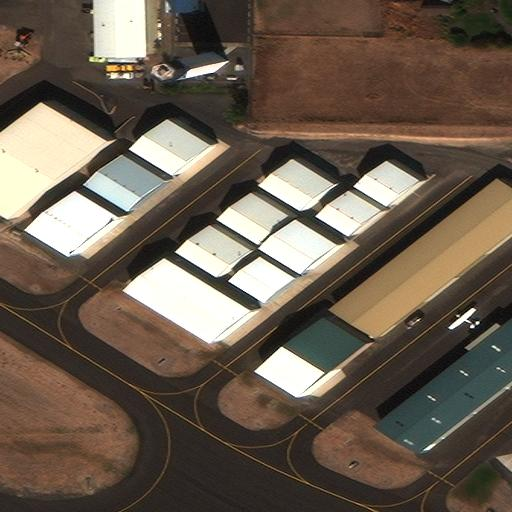Small Civil Transport: (447, 307, 477, 327)
